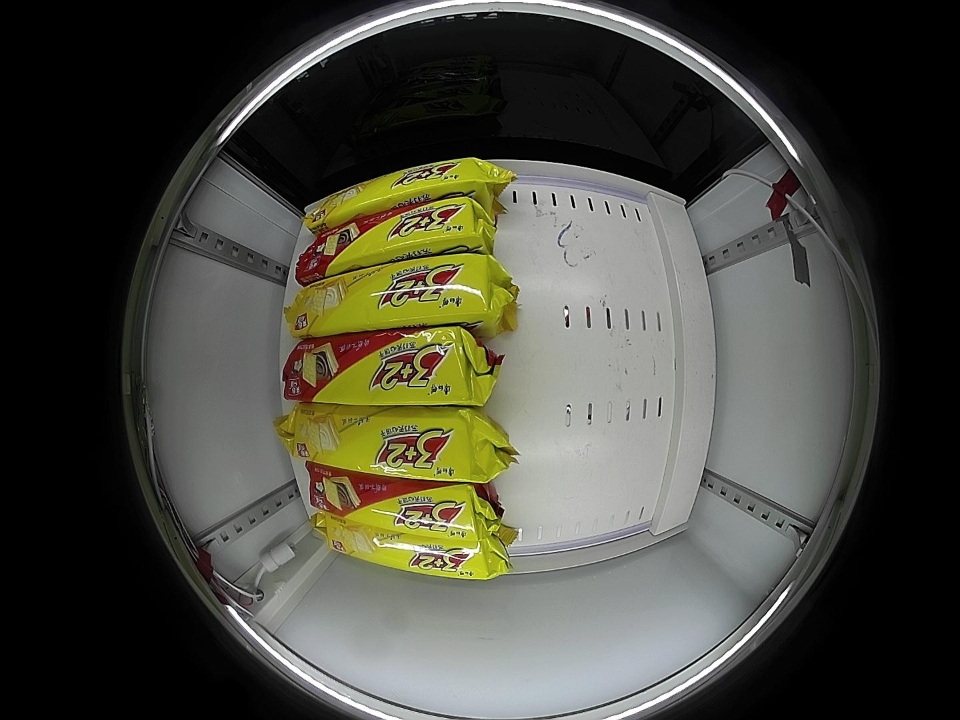3+2-2: (293, 255, 493, 334), (296, 407, 486, 479), (308, 158, 498, 226), (321, 520, 498, 580)
3jia2: (289, 327, 483, 404), (300, 200, 485, 277), (311, 472, 485, 536)
